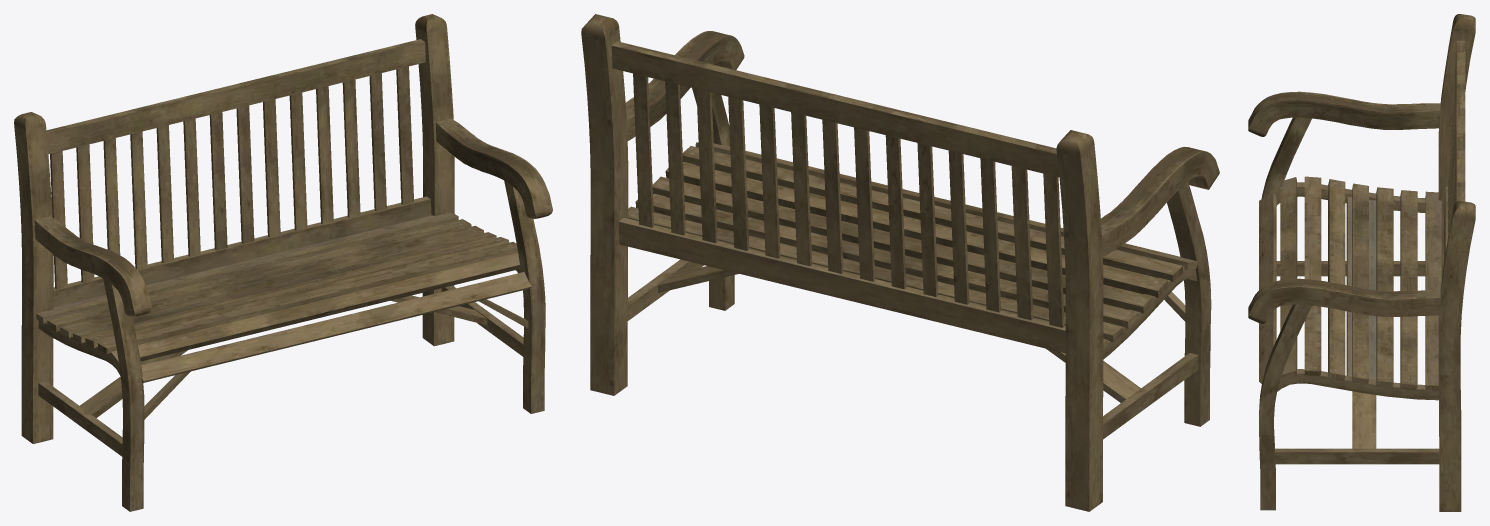
File: bench.glb
The picture shows the model from 3 angles, left to right: view 1: azimuth 30°, elevation 25°; view 2: azimuth 150°, elevation 25°; view 3: azimuth 270°, elevation 25°; orthographic projection. The views are drawn at different scales.
Visible parts, largest first — view 1: Cube.005_Cube.011; view 2: Cube.005_Cube.011; view 3: Cube.005_Cube.011.
Boxes of the visible parts, box(x1,y1,x2,y2) form: Cube.005_Cube.011: box(14, 14, 552, 511); Cube.005_Cube.011: box(581, 14, 1219, 511); Cube.005_Cube.011: box(1248, 14, 1475, 511).
Size of the model in its own units: 2 by 1.44 by 0.9795.
1 material, 1 textured.
